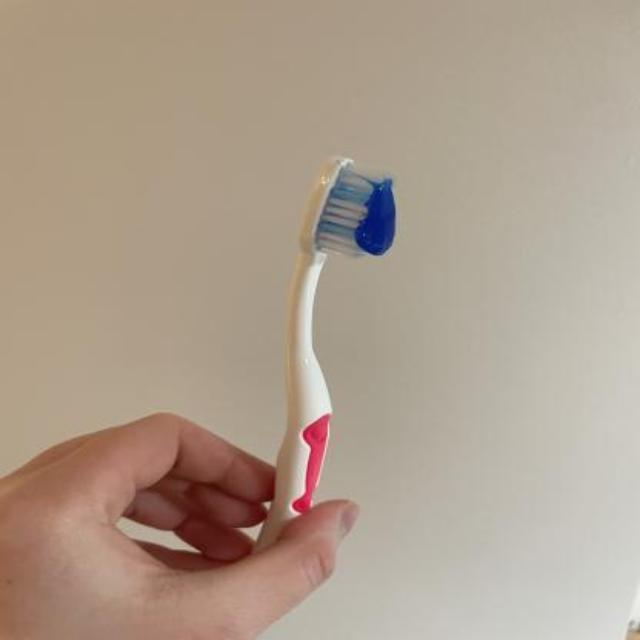toothbrush: (261, 150, 411, 560)
